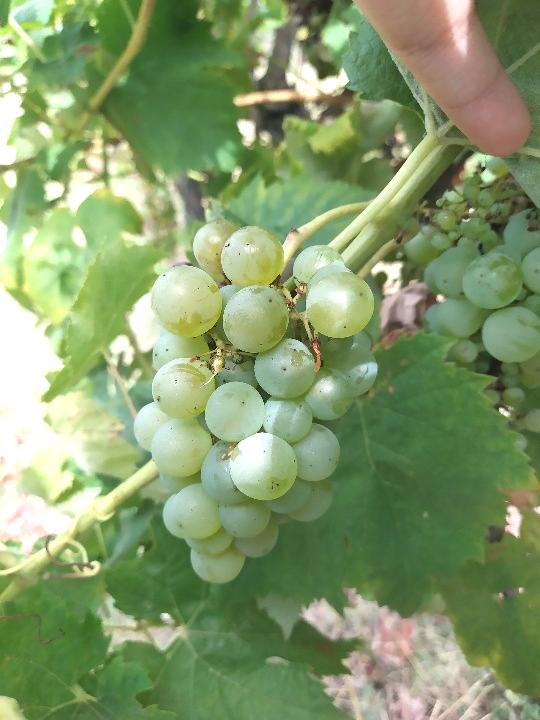grape: (130, 217, 381, 588)
